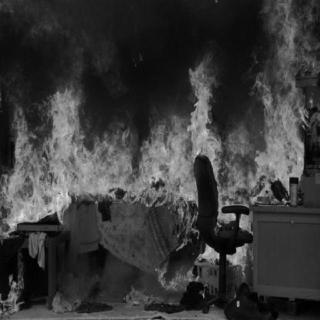Fire: (1, 2, 317, 314)
